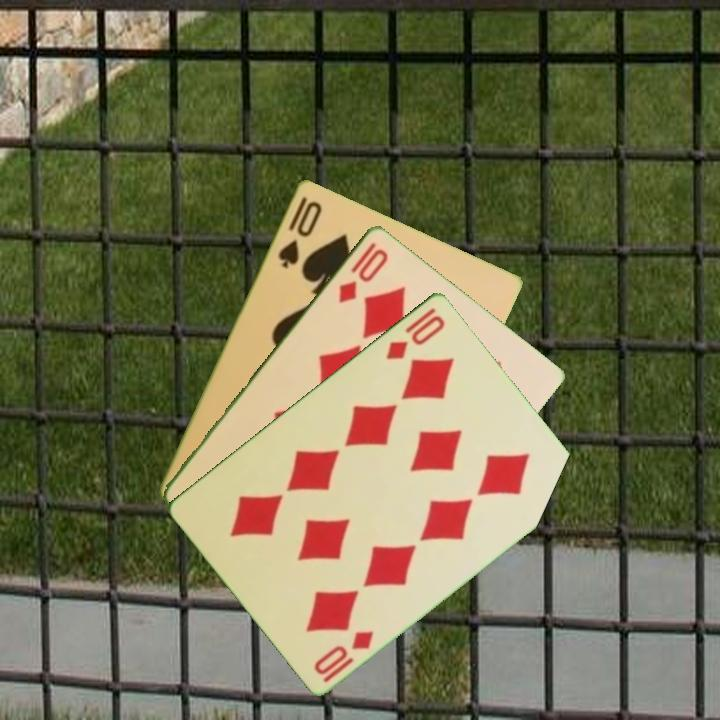10d: (382, 303, 449, 362), (310, 626, 377, 685), (334, 238, 391, 306)
10s: (274, 196, 325, 271)
